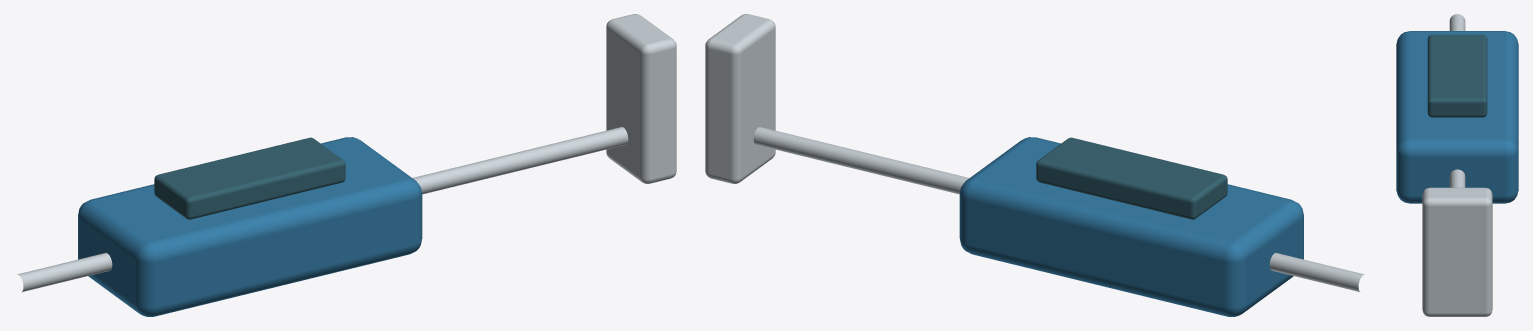
Rendered from curling-club-and-ice-maintenance-distance-gauge-19c1c03d__31279.glb.
The picture shows the model from 3 angles, left to right: view 1: azimuth 30°, elevation 25°; view 2: azimuth 150°, elevation 25°; view 3: azimuth 270°, elevation 25°; orthographic projection. The views are drawn at different scales.
Visible parts, largest first — view 1: distance-gauge; view 2: distance-gauge; view 3: distance-gauge.
Boxes of the visible parts, bbox=[...] form: distance-gauge: bbox=[17, 14, 676, 316]; distance-gauge: bbox=[705, 14, 1364, 316]; distance-gauge: bbox=[1396, 14, 1518, 316].
Bounding box in the file's own units: 0.36 × 0.075 × 0.07.
